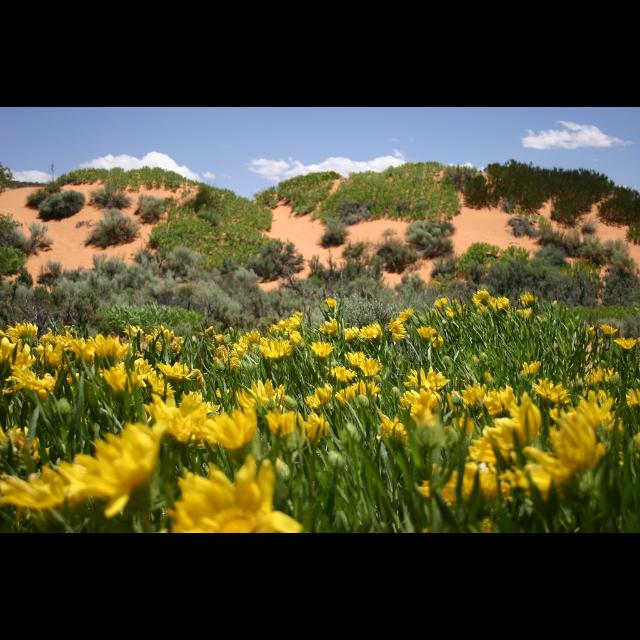Flower: (62, 433, 164, 527), (156, 469, 282, 528), (534, 411, 612, 481), (488, 394, 542, 454), (193, 412, 255, 458), (233, 376, 280, 419), (70, 330, 130, 360), (528, 376, 570, 418), (142, 396, 190, 432), (575, 391, 611, 433), (399, 369, 455, 393), (266, 408, 304, 438), (95, 364, 127, 394), (157, 360, 187, 384), (4, 322, 40, 340), (360, 351, 378, 379), (308, 339, 332, 359), (357, 320, 381, 338), (308, 388, 330, 406), (338, 383, 357, 403), (387, 322, 405, 340), (470, 288, 488, 306), (328, 367, 352, 379), (616, 335, 640, 347), (344, 351, 364, 365)
